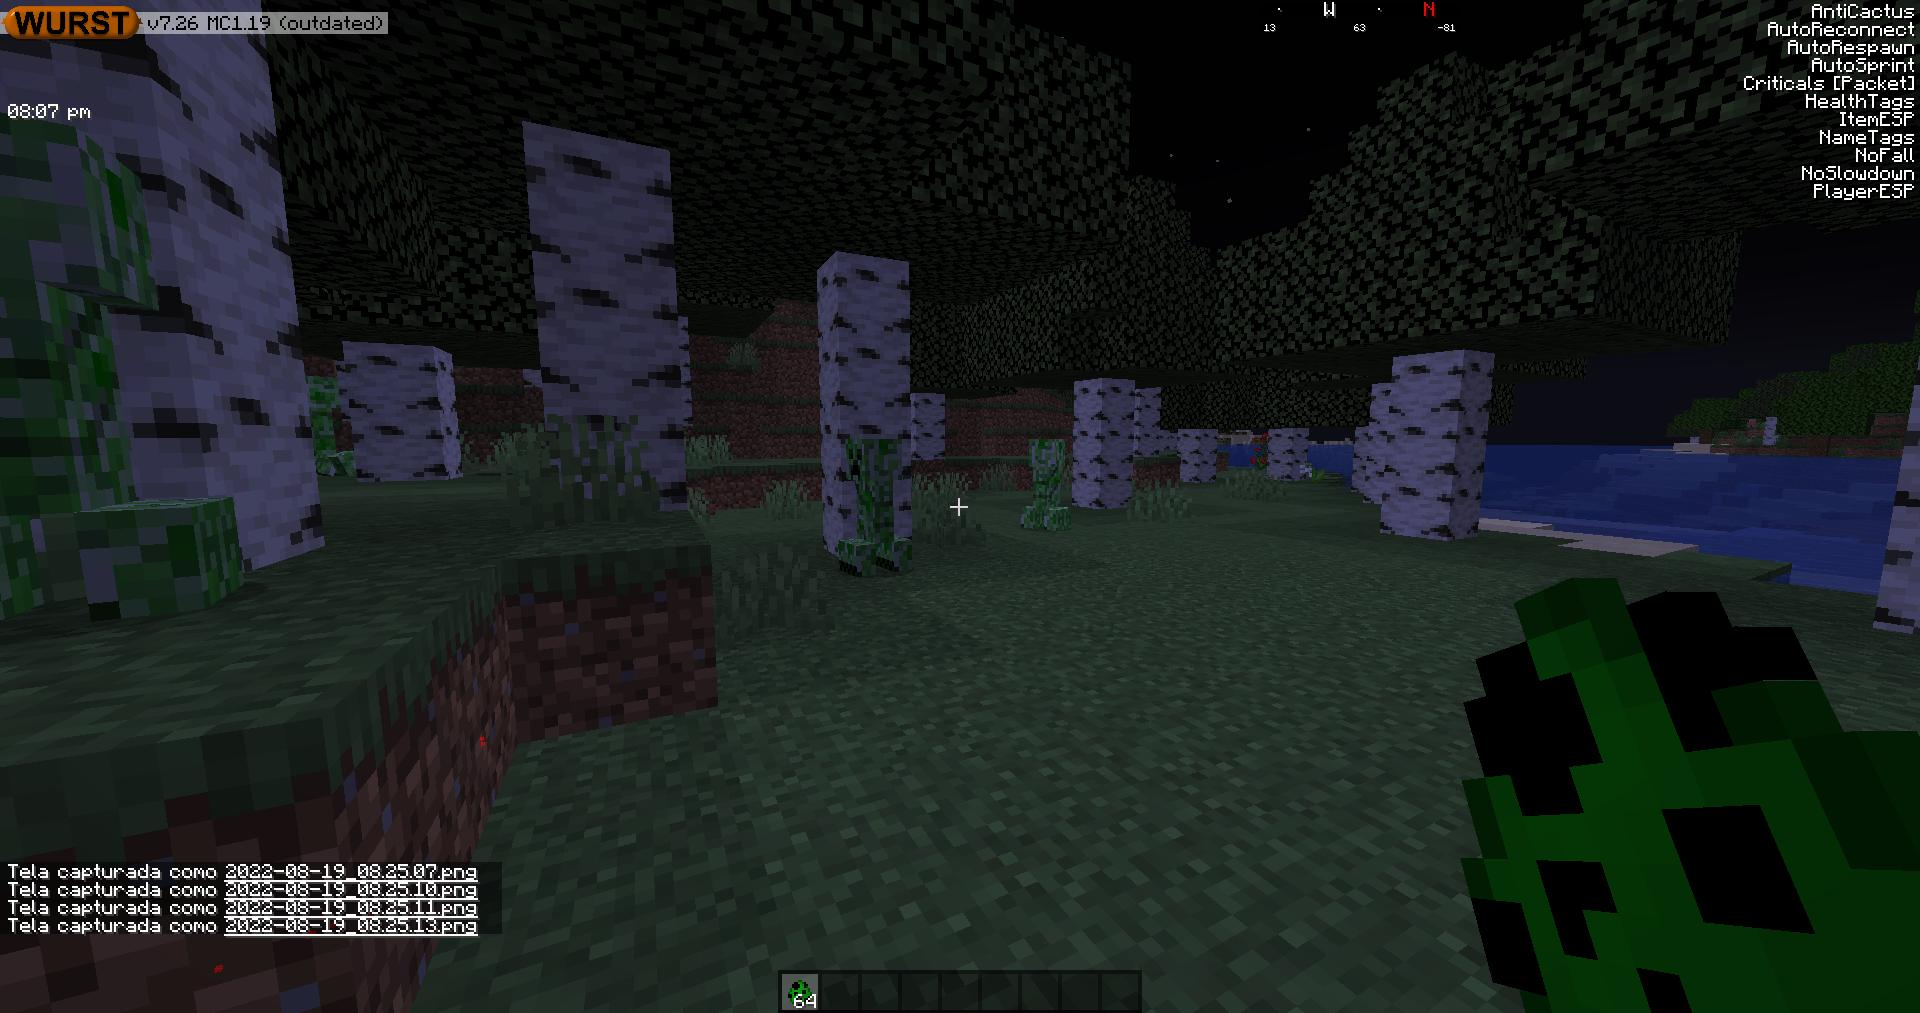creeper: (839, 432, 902, 576), (1025, 437, 1065, 541)
